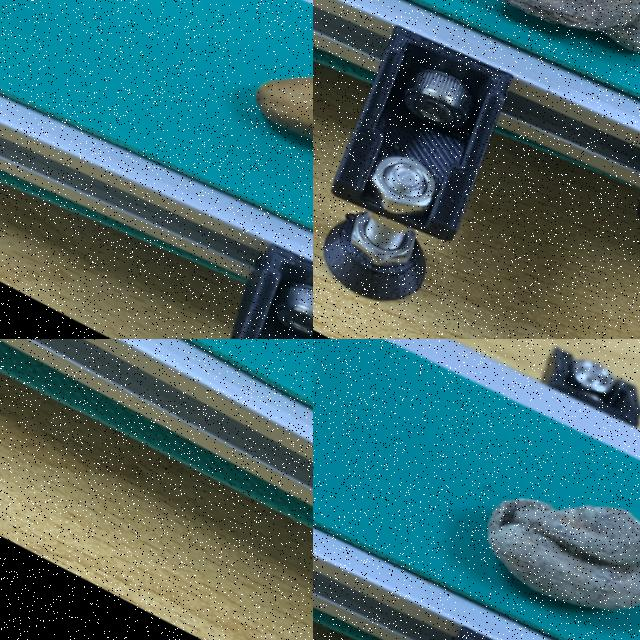Agglomerated_cocoabeans: (378, 386, 639, 639), (405, 0, 639, 168)
Fine_cocoabeans: (120, 0, 312, 290)
